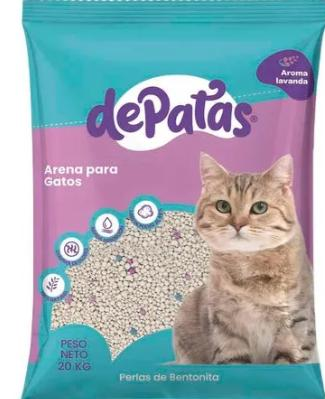brand: (76, 73, 260, 150)
net_weight: (45, 359, 95, 372)
product_name: (33, 155, 134, 192)
